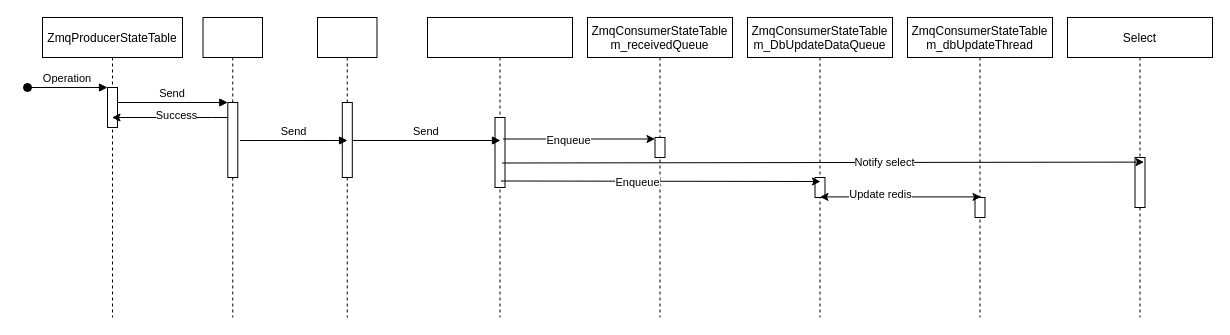
Image size: 1230x335. Some labels were removed from this diagram. The centre of each missing label's shape, as x and y in pixels:
"ZMQ" belongs at [346,167].
"ZmqClient" belongs at [232,167].
"ZmqServer m_mqPollThread" belongs at [499,167].
